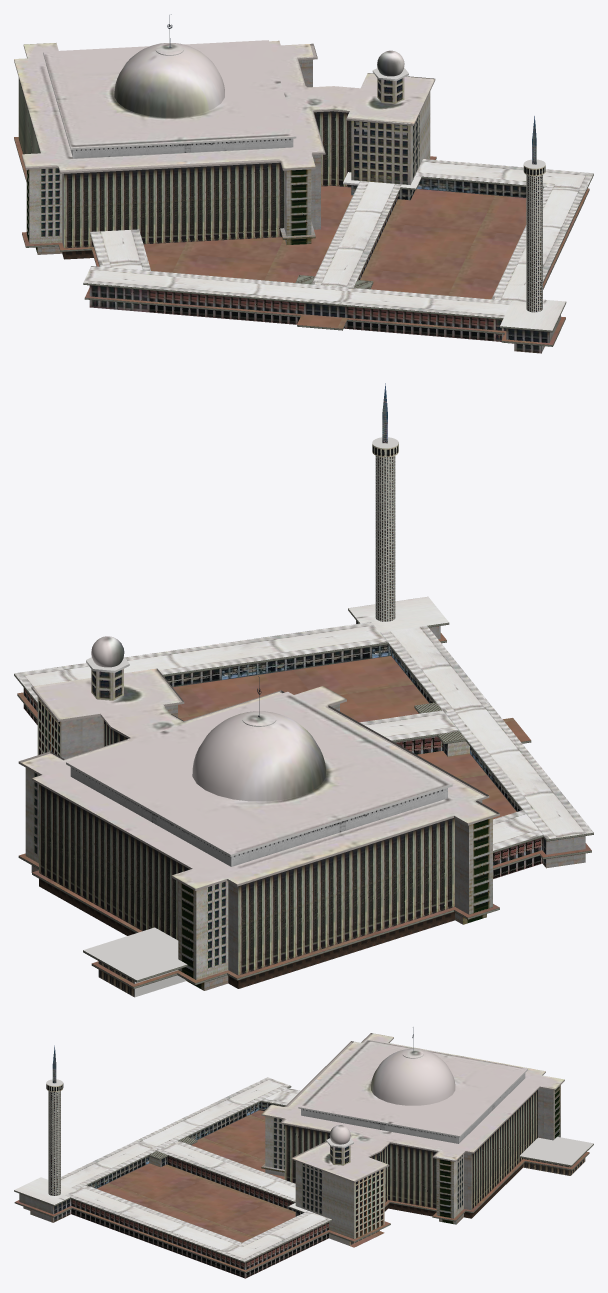
File: Istiqlal.fbx
The picture shows the model from 3 angles, top to bottom: view 1: azimuth 30°, elevation 25°; view 2: azimuth 150°, elevation 25°; view 3: azimuth 270°, elevation 25°; orthographic projection. The views are drawn at different scales.
Parts seen in each view (by area): view 1: Group15, Group13, Group10, Group16, Group14, Group17, Group18, Group4, Group7, Group6, Group8; view 2: Group15, Group10, Group16, Group14, Group13, Group18, Group17, Group7, Group4, Group3, Group2, Group6 (+1 smaller); view 3: Group15, Group10, Group13, Group16, Group14, Group17, Group18, Group7, Group3, Group4, Group2, Group6 (+1 smaller).
Boxes of the visible parts, x1,y1,x2,y2 form: Group15: (18, 57, 430, 259); Group13: (14, 137, 589, 346); Group10: (83, 159, 593, 332); Group16: (43, 40, 296, 149); Group14: (14, 40, 435, 173); Group17: (89, 178, 583, 353); Group18: (114, 43, 224, 117); Group4: (526, 174, 542, 312); Group7: (70, 138, 293, 158); Group6: (377, 78, 404, 103); Group8: (377, 50, 404, 76); Group15: (25, 697, 492, 990); Group10: (14, 596, 593, 852); Group16: (66, 691, 452, 856); Group14: (18, 668, 499, 890); Group13: (17, 633, 591, 988); Group18: (192, 711, 325, 801); Group17: (23, 620, 585, 878); Group7: (70, 767, 447, 866); Group4: (375, 456, 395, 621); Group3: (83, 927, 187, 982); Group2: (98, 961, 186, 997); Group6: (91, 669, 123, 700); Group15: (261, 1085, 560, 1247); Group10: (14, 1077, 331, 1262); Group13: (14, 1110, 589, 1273); Group16: (298, 1039, 527, 1137); Group14: (261, 1033, 564, 1182); Group17: (19, 1102, 328, 1278); Group18: (371, 1048, 455, 1105); Group7: (301, 1073, 525, 1143); Group3: (519, 1136, 593, 1166); Group4: (48, 1091, 60, 1195); Group2: (523, 1158, 585, 1175); Group6: (330, 1145, 350, 1165).
Size of the model in its own units: 208 by 88.5 by 276.
